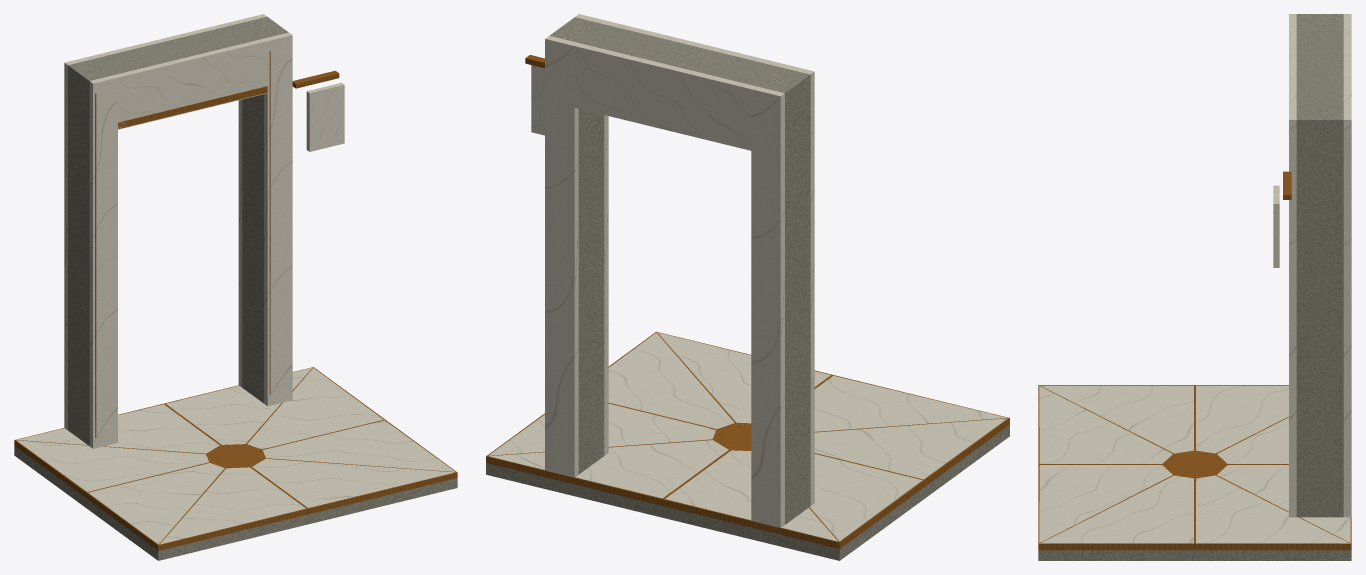
The picture shows the model from 3 angles, left to right: view 1: azimuth 30°, elevation 25°; view 2: azimuth 150°, elevation 25°; view 3: azimuth 270°, elevation 25°; orthographic projection. The views are drawn at different scales.
Parts seen in each view (by area): view 1: Marble jamb facing.002, Marble jamb facing, Stone jamb, Marble head facing, Stone jamb.001, Recessed continuous bronze inlay bed, Replaceable flush radial marble floor sector.002, Replaceable flush radial marble floor sector.006, Replaceable flush radial marble floor sector.001, Replaceable flush radial marble floor sector.007, Replaceable flush radial marble floor sector, Replaceable flush radial marble floor sector.003 (+12 smaller); view 2: Marble jamb facing.001, Marble jamb facing.003, Stone jamb, Marble head facing.001, Stone jamb.001, Replaceable flush radial marble floor sector.007, Stone floor substrate, Recessed continuous bronze inlay bed, Replaceable flush radial marble floor sector.002, Replaceable flush radial marble floor sector, Replaceable flush radial marble floor sector.004, Replaceable flush radial marble floor sector.006 (+9 smaller); view 3: Stone jamb.001, Replaceable flush radial marble floor sector.007, Replaceable flush radial marble floor sector.002, Replaceable flush radial marble floor sector.003, Replaceable flush radial marble floor sector.001, Replaceable flush radial marble floor sector, Replaceable flush radial marble floor sector.006, Recessed continuous bronze inlay bed, Door masonry head, Marble jamb facing.003, Stone floor substrate, Marble jamb facing.002 (+7 smaller).
Part boxes in pixels (box(x1,y1,x2,y2)): Marble jamb facing.002: box(264, 32, 292, 406); Marble jamb facing: box(89, 75, 117, 448); Stone jamb: box(68, 59, 113, 445); Marble head facing: box(115, 38, 267, 129); Stone jamb.001: box(242, 16, 288, 403); Recessed continuous bronze inlay bed: box(14, 367, 457, 550); Replaceable flush radial marble floor sector.002: box(262, 420, 455, 471); Replaceable flush radial marble floor sector.006: box(16, 440, 208, 491); Replaceable flush radial marble floor sector.001: box(252, 458, 455, 507); Replaceable flush radial marble floor sector.007: box(88, 463, 224, 544); Replaceable flush radial marble floor sector: box(160, 467, 305, 544); Replaceable flush radial marble floor sector.003: box(247, 368, 383, 449); Marble jamb facing.001: box(751, 86, 784, 527); Marble jamb facing.003: box(545, 36, 578, 477); Stone jamb: box(756, 67, 810, 524); Marble head facing.001: box(574, 43, 755, 150); Stone jamb.001: box(549, 17, 604, 474); Replaceable flush radial marble floor sector.007: box(814, 418, 1007, 479); Stone floor substrate: box(486, 425, 1009, 560); Recessed continuous bronze inlay bed: box(486, 331, 1009, 549); Replaceable flush radial marble floor sector.002: box(608, 332, 734, 428); Replaceable flush radial marble floor sector: box(814, 375, 1006, 431); Replaceable flush radial marble floor sector.004: box(489, 440, 728, 498); Replaceable flush radial marble floor sector.006: box(810, 454, 922, 541); Stone jamb.001: box(1296, 106, 1343, 517); Replaceable flush radial marble floor sector.007: box(1040, 385, 1193, 453); Replaceable flush radial marble floor sector.002: box(1040, 475, 1193, 543); Replaceable flush radial marble floor sector.003: box(1196, 475, 1349, 543); Replaceable flush radial marble floor sector.001: box(1039, 465, 1172, 542); Replaceable flush radial marble floor sector: box(1039, 386, 1172, 463); Replaceable flush radial marble floor sector.006: box(1196, 385, 1288, 453); Recessed continuous bronze inlay bed: box(1038, 385, 1351, 550); Door masonry head: box(1296, 27, 1343, 106); Marble jamb facing.003: box(1343, 106, 1351, 517); Stone floor substrate: box(1038, 550, 1351, 560); Marble jamb facing.002: box(1289, 106, 1296, 517).
Size of the model in its own units: 2.4 by 2.92 by 2.
Materials: 3 (3 with a texture image).
